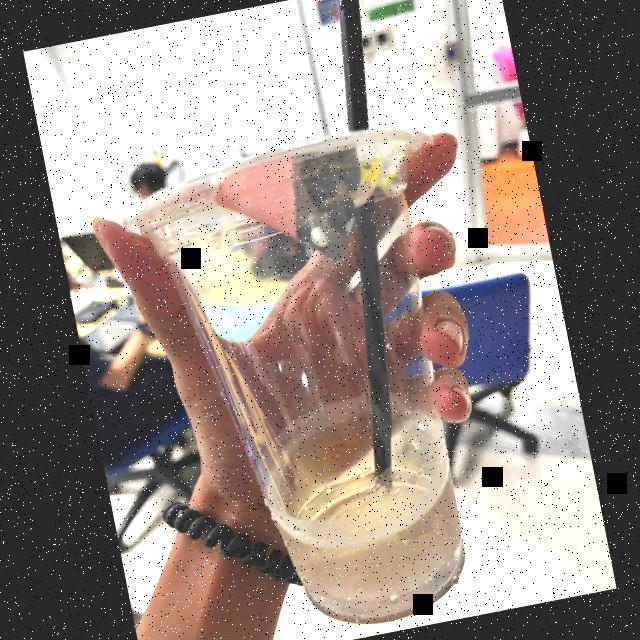plastic_cup: (124, 110, 529, 640)
straw: (339, 0, 400, 489)
